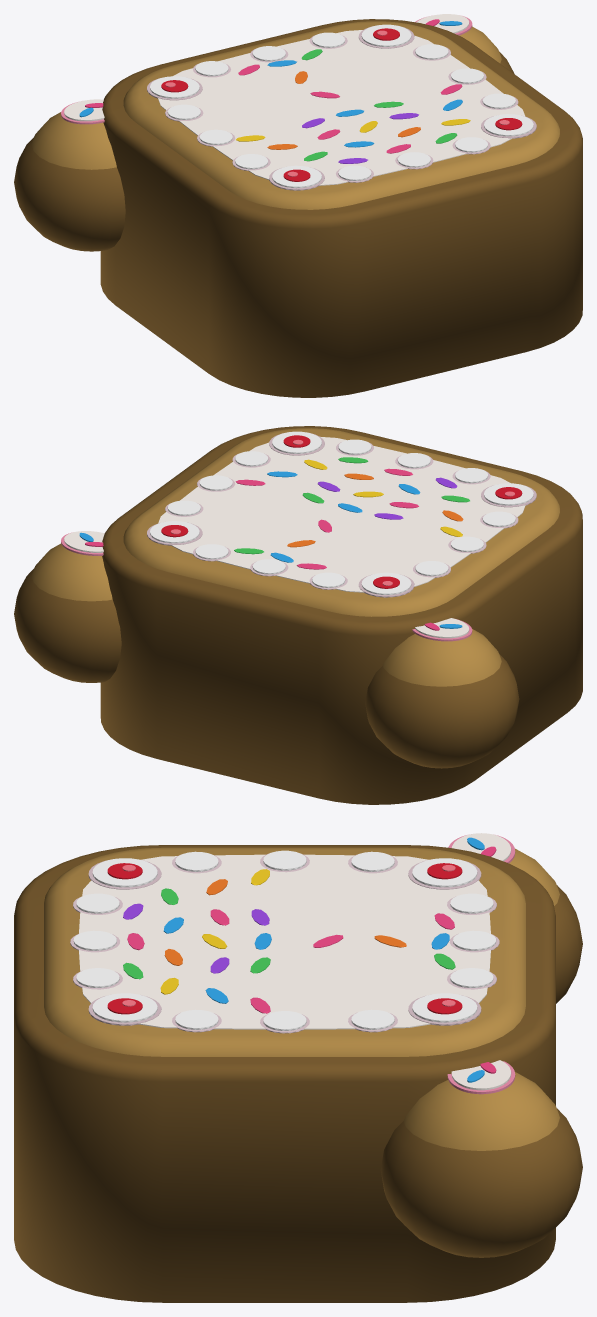
Rendered from body_estampa_bolo.fbx.
3 views of the same model, one above another, from view 1: azimuth 30°, elevation 25°; view 2: azimuth 150°, elevation 25°; view 3: azimuth 270°, elevation 25° (orthographic). The views are drawn at different scales.
Parts seen in each view (by area): view 1: body_estampa_bolo_corpo, body_estampa_bolo_mao_esq, body_estampa_bolo_mao; view 2: body_estampa_bolo_corpo, body_estampa_bolo_mao_esq, body_estampa_bolo_mao; view 3: body_estampa_bolo_corpo, body_estampa_bolo_mao, body_estampa_bolo_mao_esq.
Part boxes in pixels (x1,y1,x2,y2): body_estampa_bolo_corpo: (100, 19, 582, 397); body_estampa_bolo_mao_esq: (14, 99, 125, 251); body_estampa_bolo_mao: (415, 14, 514, 73); body_estampa_bolo_corpo: (100, 426, 582, 804); body_estampa_bolo_mao_esq: (365, 618, 519, 768); body_estampa_bolo_mao: (14, 531, 121, 682); body_estampa_bolo_corpo: (14, 845, 555, 1302); body_estampa_bolo_mao: (380, 1060, 582, 1257); body_estampa_bolo_mao_esq: (448, 833, 582, 1003).
Bounding box in the file's own units: 5.4 × 2.05 × 4.2.
1 material, 1 textured.
